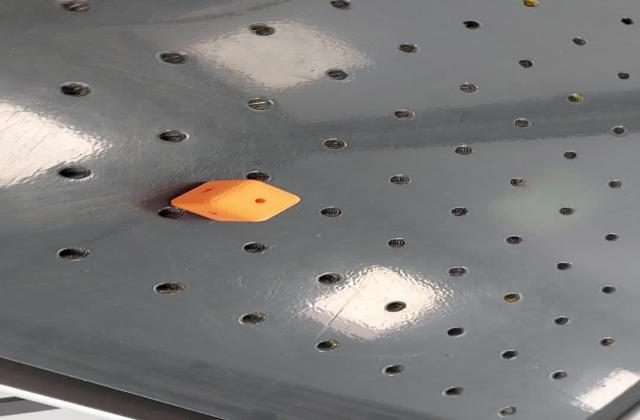cube: (163, 178, 308, 224)
